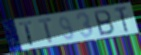3: (76, 11, 95, 40)
9: (59, 15, 75, 41)
B: (93, 9, 116, 37)
T: (113, 5, 130, 34), (18, 20, 36, 47), (37, 17, 54, 44)
